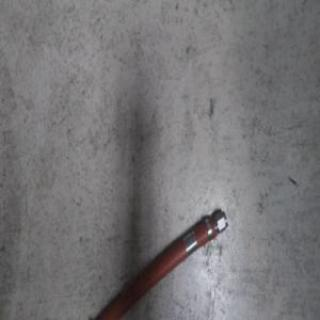Hosetrack_idkeyframe: (71, 205, 228, 319)
